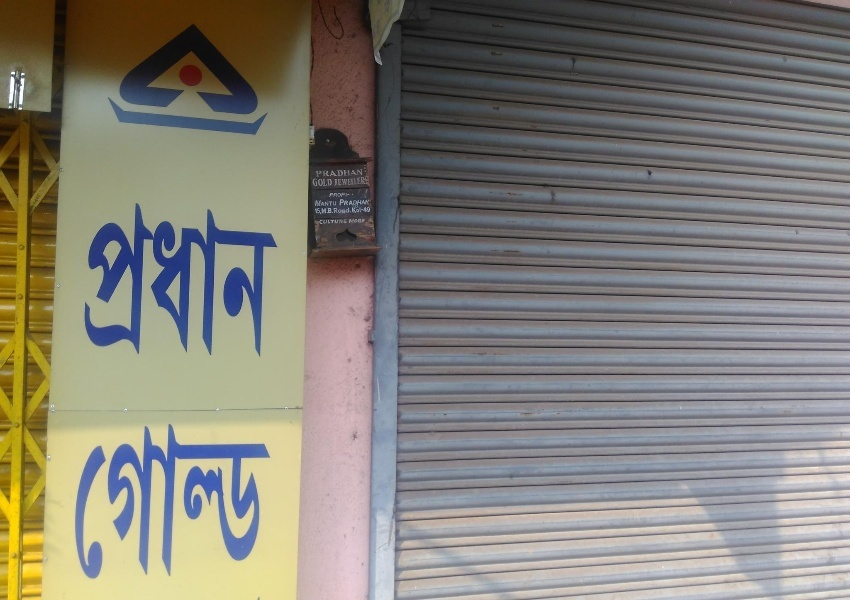text: (81, 423, 96, 580), (97, 423, 112, 580), (113, 423, 128, 580), (129, 423, 144, 580), (145, 423, 160, 580), (161, 423, 176, 580), (177, 423, 192, 580), (193, 423, 208, 580), (209, 423, 224, 580), (225, 423, 240, 580), (241, 423, 256, 580), (97, 203, 112, 358), (113, 203, 128, 358), (129, 203, 144, 358), (145, 203, 160, 358), (161, 203, 176, 358), (177, 203, 192, 358), (193, 203, 208, 358), (209, 203, 224, 358), (225, 203, 240, 358), (241, 203, 256, 358), (257, 203, 272, 358), (257, 423, 271, 580), (86, 203, 96, 358), (273, 203, 283, 358), (75, 423, 80, 580), (353, 176, 369, 187), (337, 176, 352, 187), (321, 169, 336, 178), (337, 169, 352, 178), (321, 207, 336, 215), (337, 207, 352, 215), (353, 207, 368, 215), (353, 199, 368, 206), (321, 179, 333, 187), (353, 169, 363, 178), (321, 201, 336, 207), (340, 199, 352, 206), (337, 192, 350, 198), (312, 179, 320, 187), (321, 220, 336, 224), (353, 219, 365, 223), (315, 207, 320, 215), (337, 220, 347, 224), (330, 192, 336, 198), (316, 169, 320, 178), (316, 201, 320, 207), (334, 176, 336, 187), (369, 207, 371, 215), (349, 219, 352, 223), (369, 199, 370, 206), (337, 201, 338, 207)
